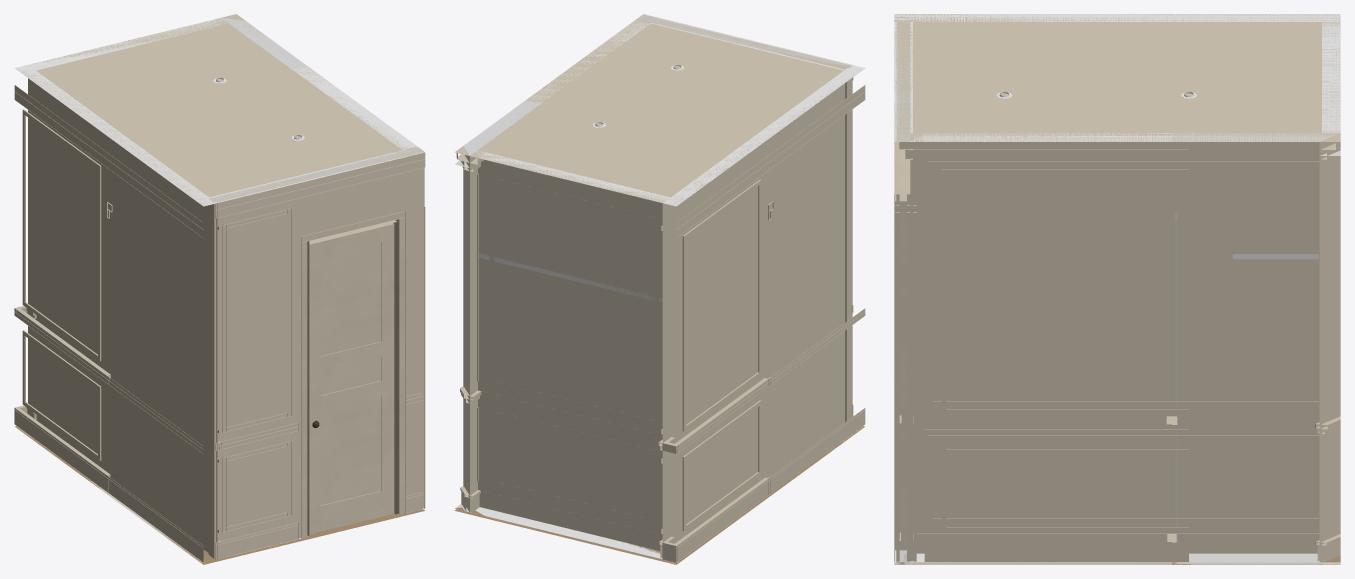
File: loli-closet-de1becd92895.glb
3 renders of one model, left to right at view 1: azimuth 30°, elevation 25°; view 2: azimuth 150°, elevation 25°; view 3: azimuth 270°, elevation 25°, orthographic. The views are drawn at different scales.
Parts seen in each view (by area): view 1: loli-closet-6a1144f4e43410bb, loli-closet-0e637d2be41161fb, loli-closet-2575515a05775d9e, loli-closet-5b37b110dc0e2cdc, loli-closet-d6b1bc8c737b28e2, loli-closet-e1ae12ec9cba52a2, loli-closet-609bc1027670cc96, loli-closet-2c29ddcb8551cb02, loli-closet-e54d813e60c9e7c4, loli-closet-8c325fd3303e2546, loli-closet-cff4566edbc5d5ad, loli-closet-9d632b693d1b5808 (+16 smaller); view 2: loli-closet-e1ae12ec9cba52a2, loli-closet-6a1144f4e43410bb, loli-closet-2575515a05775d9e, loli-closet-0e637d2be41161fb, loli-closet-23704d6ebb398f63, loli-closet-1c7325212038a6e7, loli-closet-2c29ddcb8551cb02, loli-closet-2b5f31416122ed8c, loli-closet-e54d813e60c9e7c4, loli-closet-cff4566edbc5d5ad, loli-closet-93faa3d32bde4dc4, loli-closet-cc15fd6f291c811e (+10 smaller); view 3: loli-closet-03bdd0165789d12b, loli-closet-1c7325212038a6e7, loli-closet-2575515a05775d9e, loli-closet-1bcbe5547b2cfbdc, loli-closet-92c333610bf7beb4, loli-closet-a8b6749dbb482e83, loli-closet-b6646e2e222b858d, loli-closet-aaf71131b60d1226, loli-closet-0b1205313859304a, loli-closet-b000e8b10159de15, loli-closet-6a1144f4e43410bb, loli-closet-d6b1bc8c737b28e2 (+12 smaller).
Part boxes in pixels (x1,y1,x2,y2): loli-closet-6a1144f4e43410bb: [15, 65, 215, 562]; loli-closet-0e637d2be41161fb: [208, 146, 424, 559]; loli-closet-2575515a05775d9e: [16, 14, 424, 205]; loli-closet-5b37b110dc0e2cdc: [309, 223, 394, 534]; loli-closet-d6b1bc8c737b28e2: [302, 218, 404, 538]; loli-closet-e1ae12ec9cba52a2: [28, 18, 226, 408]; loli-closet-609bc1027670cc96: [215, 152, 425, 218]; loli-closet-2c29ddcb8551cb02: [14, 408, 203, 562]; loli-closet-e54d813e60c9e7c4: [14, 85, 203, 237]; loli-closet-8c325fd3303e2546: [222, 209, 291, 432]; loli-closet-cff4566edbc5d5ad: [22, 109, 101, 361]; loli-closet-9d632b693d1b5808: [307, 219, 398, 536]; loli-closet-e1ae12ec9cba52a2: [470, 151, 670, 558]; loli-closet-6a1144f4e43410bb: [662, 65, 864, 543]; loli-closet-2575515a05775d9e: [455, 14, 864, 205]; loli-closet-0e637d2be41161fb: [637, 14, 852, 422]; loli-closet-23704d6ebb398f63: [490, 177, 658, 425]; loli-closet-1c7325212038a6e7: [463, 100, 540, 511]; loli-closet-2c29ddcb8551cb02: [676, 408, 865, 562]; loli-closet-2b5f31416122ed8c: [479, 491, 672, 550]; loli-closet-e54d813e60c9e7c4: [676, 85, 865, 237]; loli-closet-cff4566edbc5d5ad: [682, 179, 761, 431]; loli-closet-93faa3d32bde4dc4: [490, 410, 658, 524]; loli-closet-cc15fd6f291c811e: [470, 24, 655, 171]; loli-closet-03bdd0165789d12b: [913, 133, 1172, 562]; loli-closet-1c7325212038a6e7: [1172, 133, 1340, 562]; loli-closet-2575515a05775d9e: [894, 14, 1340, 141]; loli-closet-1bcbe5547b2cfbdc: [924, 542, 1188, 562]; loli-closet-92c333610bf7beb4: [928, 161, 1319, 405]; loli-closet-a8b6749dbb482e83: [916, 533, 1319, 553]; loli-closet-b6646e2e222b858d: [928, 435, 1319, 523]; loli-closet-aaf71131b60d1226: [913, 141, 1188, 159]; loli-closet-0b1205313859304a: [941, 169, 1188, 414]; loli-closet-b000e8b10159de15: [916, 416, 1319, 425]; loli-closet-6a1144f4e43410bb: [894, 14, 1340, 21]; loli-closet-d6b1bc8c737b28e2: [895, 142, 906, 550].
Size of the model in its own units: 1.95 by 3.03 by 2.88.
17 materials, 3 textured.
